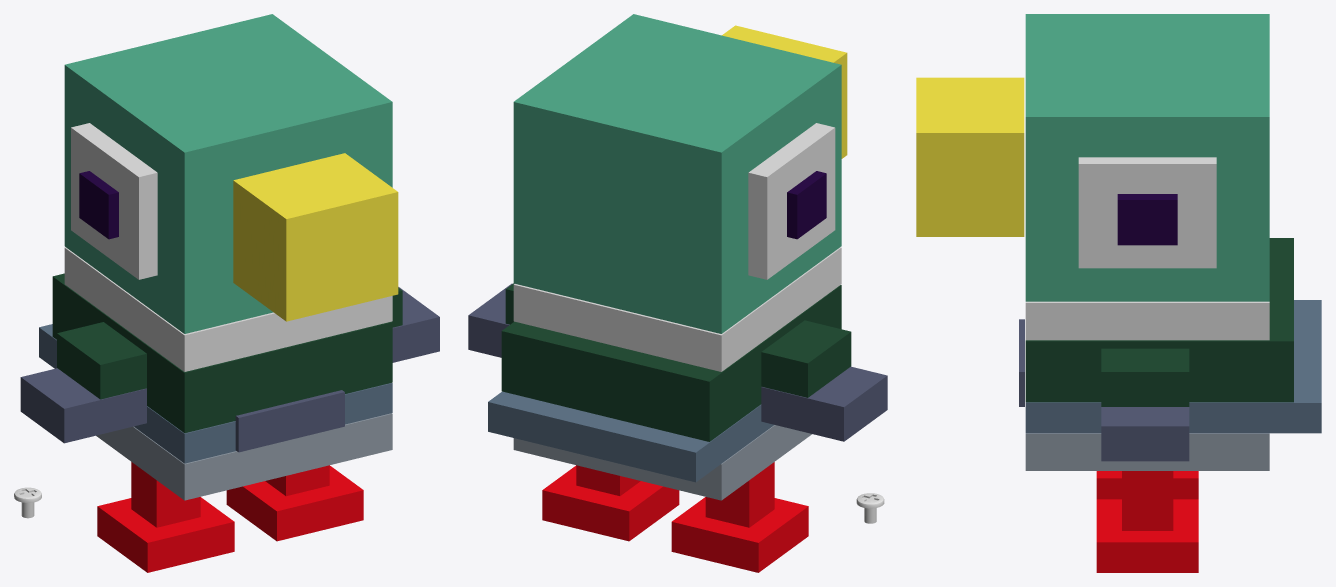
3 renders of one model, left to right at view 1: azimuth 30°, elevation 25°; view 2: azimuth 150°, elevation 25°; view 3: azimuth 270°, elevation 25°, orthographic.
Visible parts, largest first — view 1: Cube.111, Cube.113, Cube.109, Cube.110, Cube.108, Cube.116, Cube.125, Cube.121, Cube.123, Cube.122, Cube.118, Cube.112 (+5 smaller); view 2: Cube.111, Cube.109, Cube.110, Cube.118, Cube.116, Cube.125, Cube.121, Cube.123, Cube.108, Cube.122, Cube.126, Cube.113 (+4 smaller); view 3: Cube.111, Cube.113, Cube.109, Cube.114, Cube.110, Cube.118, Cube.108, Cube.123, Cube.120, Cube.119, Cube.115, Cube.124 (+2 smaller).
Boxes of the visible parts, x1=… form: Cube.111: x1=64, y1=14, x2=392, y2=333; Cube.113: x1=233, y1=153, x2=398, y2=321; Cube.109: x1=52, y1=273, x2=392, y2=433; Cube.110: x1=64, y1=247, x2=392, y2=371; Cube.108: x1=96, y1=413, x2=392, y2=500; Cube.116: x1=71, y1=123, x2=157, y2=279; Cube.125: x1=97, y1=497, x2=234, y2=572; Cube.121: x1=20, y1=368, x2=146, y2=443; Cube.123: x1=226, y1=465, x2=363, y2=541; Cube.122: x1=57, y1=322, x2=146, y2=399; Cube.118: x1=39, y1=324, x2=392, y2=463; Cube.112: x1=235, y1=390, x2=344, y2=452; Cube.111: x1=513, y1=14, x2=841, y2=333; Cube.109: x1=501, y1=285, x2=841, y2=441; Cube.110: x1=513, y1=247, x2=841, y2=371; Cube.118: x1=488, y1=391, x2=774, y2=482; Cube.116: x1=748, y1=123, x2=835, y2=279; Cube.125: x1=671, y1=497, x2=808, y2=572; Cube.121: x1=761, y1=366, x2=887, y2=441; Cube.123: x1=542, y1=465, x2=679, y2=541; Cube.108: x1=513, y1=425, x2=811, y2=500; Cube.122: x1=761, y1=320, x2=851, y2=397; Cube.126: x1=705, y1=462, x2=774, y2=527; Cube.113: x1=722, y1=25, x2=847, y2=158; Cube.111: x1=1025, y1=14, x2=1269, y2=301; Cube.113: x1=916, y1=77, x2=1024, y2=236; Cube.109: x1=1025, y1=238, x2=1293, y2=402; Cube.114: x1=1078, y1=157, x2=1216, y2=268; Cube.110: x1=1025, y1=301, x2=1269, y2=340; Cube.118: x1=1025, y1=300, x2=1321, y2=433; Cube.108: x1=1025, y1=433, x2=1269, y2=470; Cube.123: x1=1096, y1=499, x2=1198, y2=572; Cube.120: x1=1101, y1=348, x2=1189, y2=406; Cube.119: x1=1101, y1=407, x2=1189, y2=461; Cube.115: x1=1117, y1=194, x2=1177, y2=245; Cube.124: x1=1122, y1=471, x2=1173, y2=530.
Bounding box in the file's own units: 32.4 × 34.7 × 28.16.
